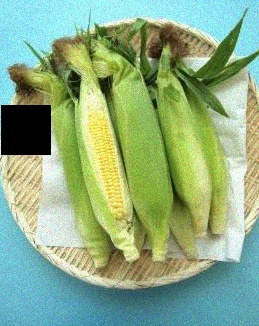corn: (82, 95, 126, 226)
corn_plant: (29, 71, 110, 262), (101, 42, 168, 241), (154, 56, 210, 229)
